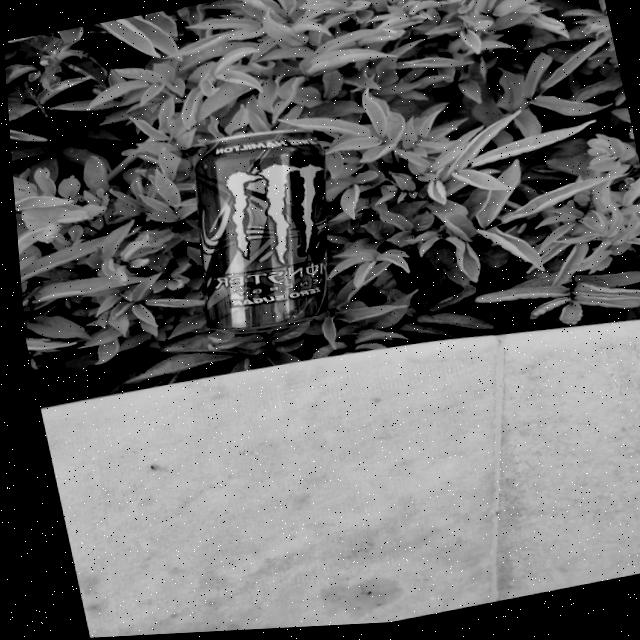Monster LH44: (159, 112, 361, 345)
